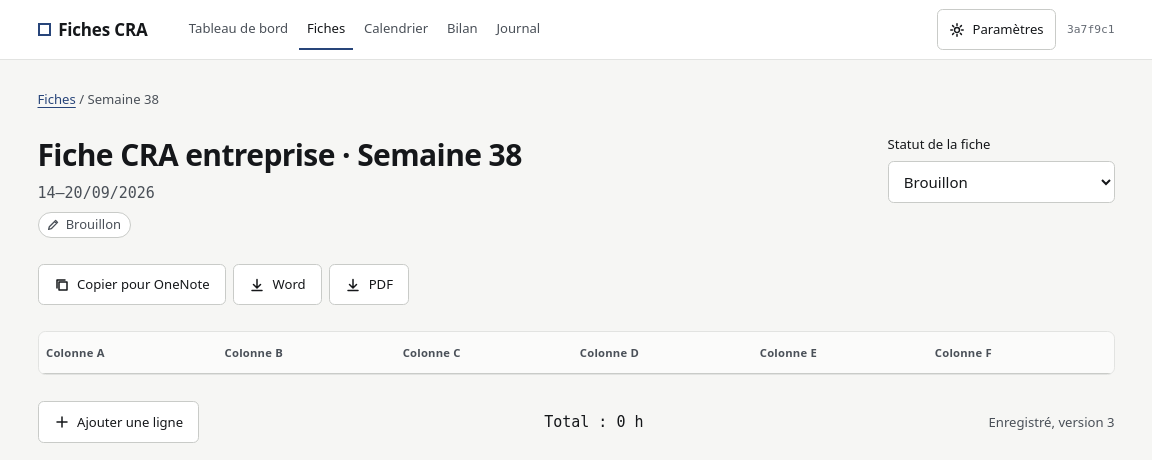
Test: Éditeur de fiche › marquer terminée sans ligne explique pourquoi
Select "Terminée" in the dropdown labelled "Statut de la fiche": (1001, 182) 888,161 -> 1114,203
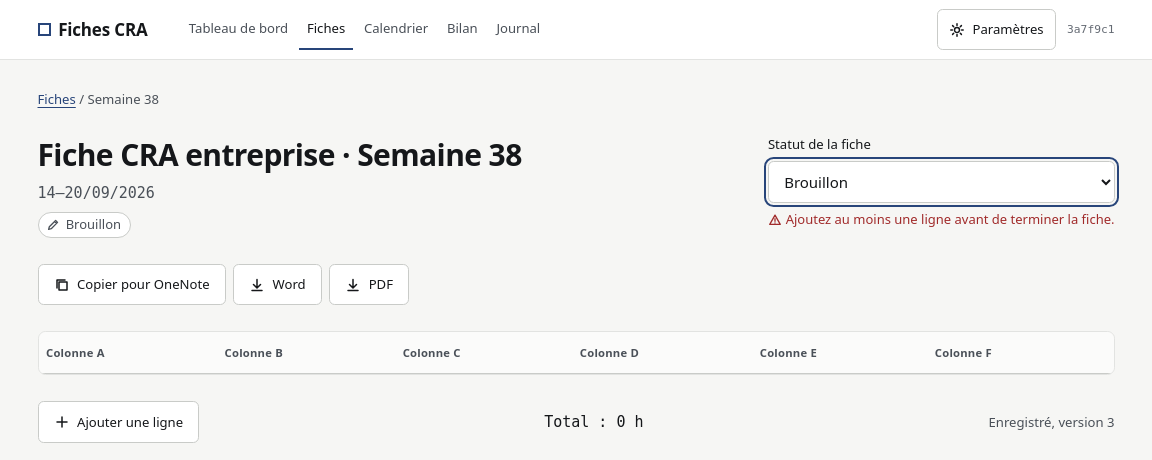
Result: the message "Ajoutez au moins une ligne avant de terminer la fiche." is shown at 768,210 -> 1114,230
